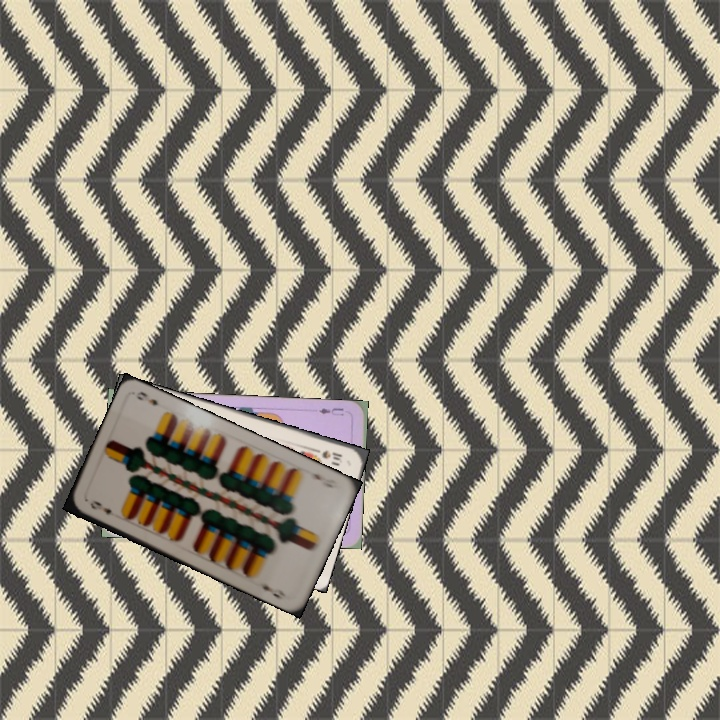E9: (305, 466, 340, 491), (86, 496, 114, 517)
EU: (315, 404, 346, 418)
S10: (309, 444, 345, 466)
